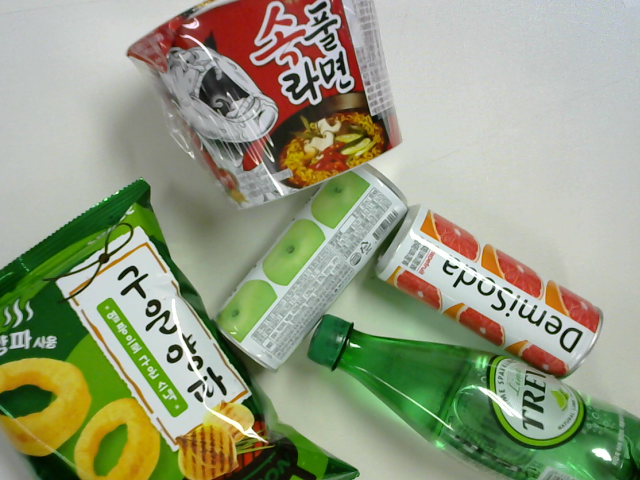Demisoda_Apple_Can_250ml: (207, 155, 414, 362)
Demisoda_Grapefruit_Can_250ml: (368, 200, 611, 381)
Grilled_Onions: (1, 187, 367, 479)
Hejangpul: (108, 1, 410, 215)
Treviraim_500ml: (298, 317, 640, 479)
